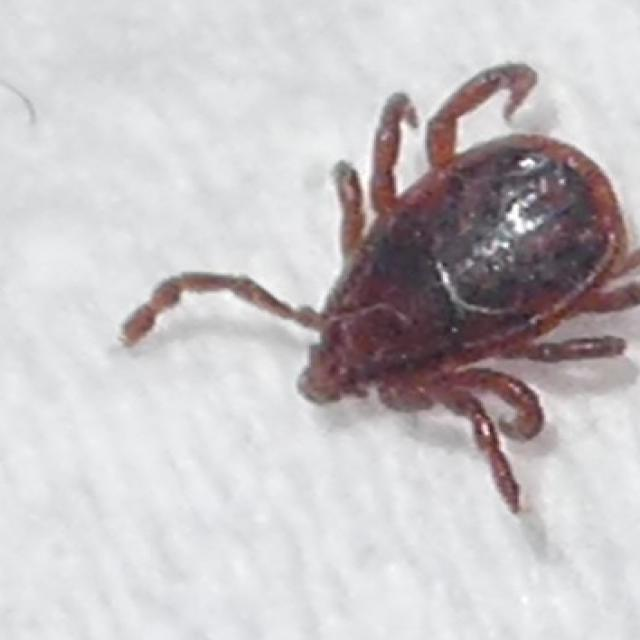Rhipicephalus Sanguineus-M: (118, 64, 640, 515)
